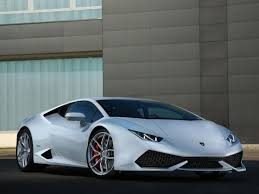Lamborghini: (15, 99, 243, 174)
